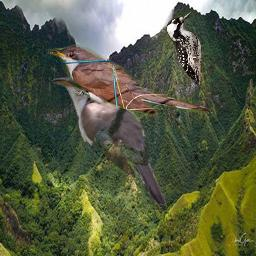Cuckoo: (50, 70, 166, 209), (47, 42, 212, 122)
Woodpecker: (165, 11, 202, 85)
